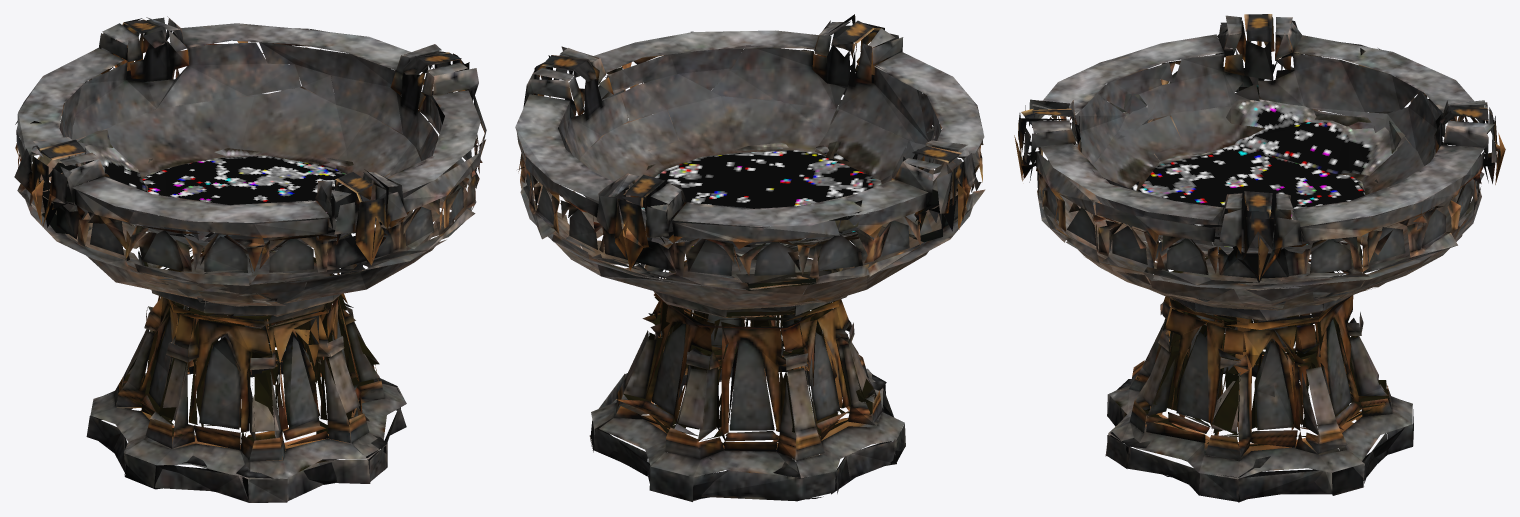
File: pro_brazier.glb
The picture shows the model from 3 angles, left to right: view 1: azimuth 30°, elevation 25°; view 2: azimuth 150°, elevation 25°; view 3: azimuth 270°, elevation 25°; orthographic projection. The views are drawn at different scales.
Parts seen in each view (by area): view 1: MetricPlacement; view 2: MetricPlacement; view 3: MetricPlacement.
Part boxes in pixels (left/top/right/bottom): MetricPlacement: left=14, top=16, right=486, bottom=502; MetricPlacement: left=515, top=14, right=985, bottom=501; MetricPlacement: left=1014, top=14, right=1505, bottom=502.
Bounding box in the file's own units: 1.5 × 1.1 × 1.49.
1 material, 1 textured.
